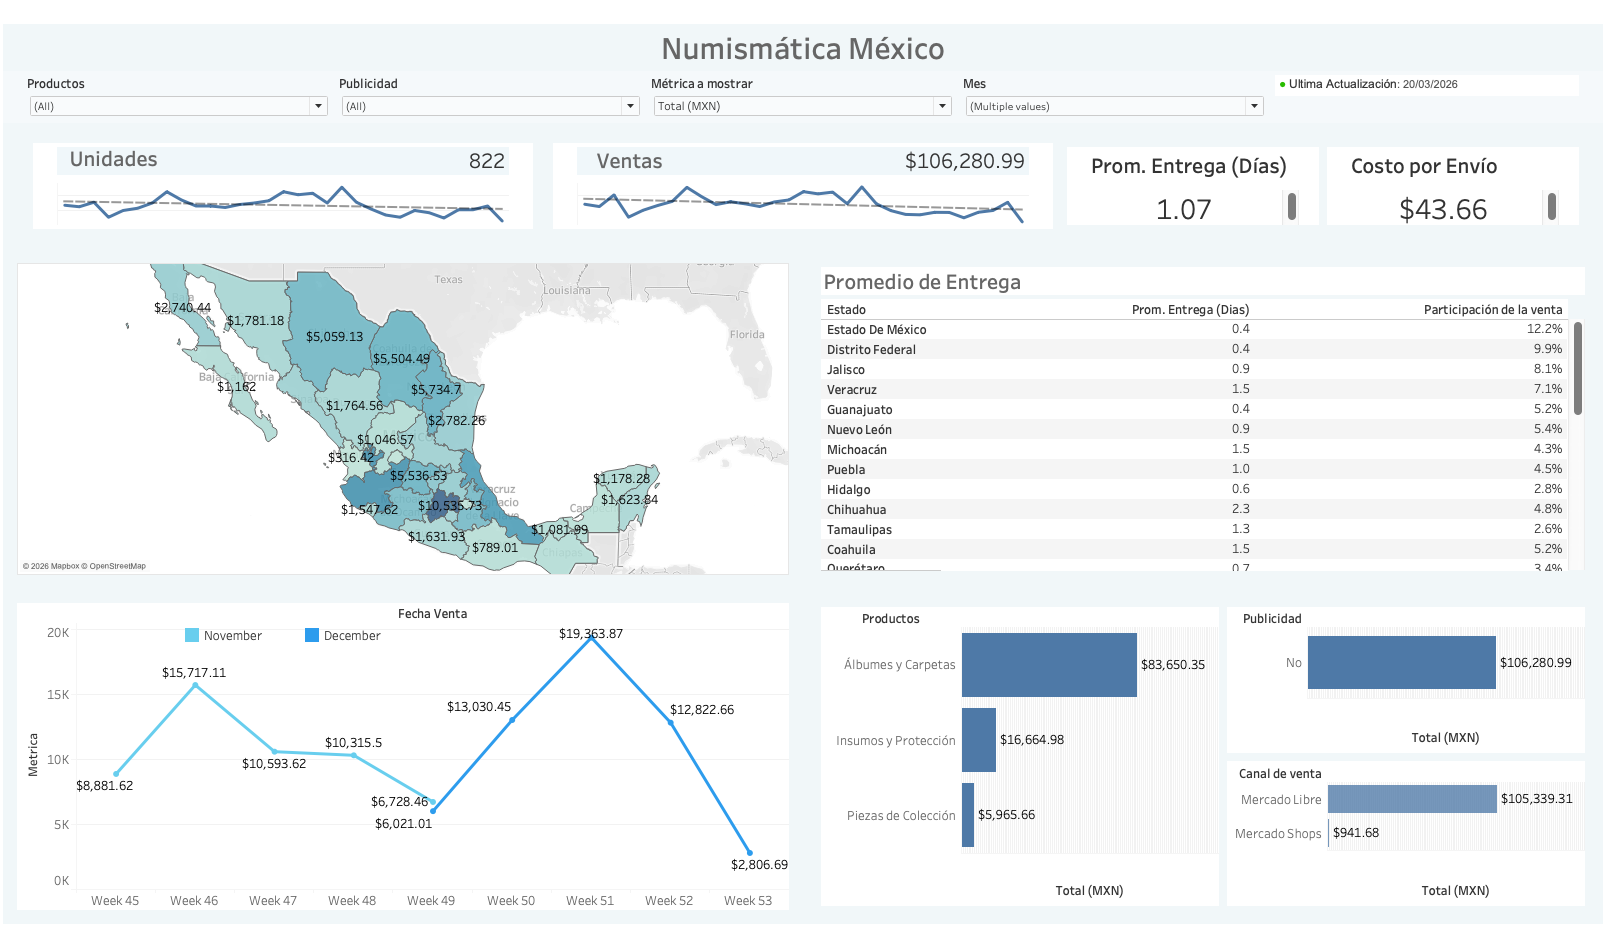

The page's visual inventory and layout, read from the dashboard file:
{"tool":"tableau","page":{"name":"Dashboard 2","canvas":[1600,900],"ordinal":0},"visuals":[{"type":"text","box":[0,0,1600,47]},{"type":"filter","title":"2.Visualización (3)","param":"[federated.0ptktg61vmrfxa1dduri50omddn7].[none:Título de la publicación:nk]","box":[20,47,312,52]},{"type":"filter","title":"1.Comparativa por mes","param":"[federated.0ptktg61vmrfxa1dduri50omddn7].[none:Venta por publicidad:nk]","box":[332,47,312,52]},{"type":"parameter","param":"[Parameters].[Parámetro 1 1]","box":[644,47,312,52]},{"type":"filter","title":"1.Comparativa por mes","param":"[federated.0ptktg61vmrfxa1dduri50omddn7].[mn:Fecha Venta:ok]","box":[956,47,312,52]},{"type":"worksheet","title":"LAst Update","mark":"Automatic","box":[1268,47,312,52]},{"type":"text","box":[64,102,108,64]},{"type":"text","box":[591,104,108,64]},{"type":"worksheet","title":"Unidades","mark":"Automatic","box":[50,119,460,36]},{"type":"worksheet","title":"Ventas","mark":"Automatic","box":[570,119,460,36]},{"type":"worksheet","title":"Avg. Dias Entrega","mark":"Automatic","box":[1060,119,260,86]},{"type":"worksheet","title":"Costo X Envio","mark":"Automatic","box":[1320,119,260,86]},{"type":"worksheet","title":"Unidades por mes","mark":"Automatic","rows":["Unidades"],"cols":["Fecha Venta"],"box":[50,155,460,50]},{"type":"worksheet","title":"Ventas por mes","mark":"Automatic","rows":["Total (MXN)"],"cols":["Fecha Venta"],"box":[570,155,460,50]},{"type":"worksheet","title":"6.Ent. por estado","mark":"Automatic","box":[0,225,800,340]},{"type":"text","box":[814,239,772,32]},{"type":"worksheet","title":"6.Dias/Costo x transp","mark":"Automatic","rows":["Estado"],"box":[814,271,772,280]},{"type":"worksheet","title":"1.Comparativa por mes","mark":"Automatic","rows":["Calculation_0001071783928113"],"cols":["Fecha Venta"],"box":[0,565,800,335]},{"type":"worksheet","title":"2.Visualización (3)","mark":"Automatic","rows":["Calculation_1135290359267329"],"cols":["Calculation_0001071783928113"],"box":[814,579,406,307]},{"type":"worksheet","title":"Ventas por Publicidad","mark":"Automatic","rows":["Venta por publicidad"],"cols":["Calculation_0001071783928113"],"box":[1220,579,366,154]},{"type":"legend","title":"1.Comparativa por mes","param":"[federated.0ptktg61vmrfxa1dduri50omddn7].[mn:Fecha Venta:ok]","box":[179,601,426,27]},{"type":"worksheet","title":"5.KPI - Canal principal (MXN)","mark":"Automatic","rows":["Canal de venta"],"cols":["Calculation_0001071783928113"],"box":[1220,733,366,153]}]}

Visuals, with their boxes in screenshot pixels (x1, y1, x2, y2), scaled from the page's 1600x900 canvas onto the 1613x929 screenshot:
text: crop(0, 0, 1612, 49)
"2.Visualización (3)" filter: crop(20, 49, 335, 102)
"1.Comparativa por mes" filter: crop(335, 49, 649, 102)
parameter: crop(649, 49, 964, 102)
"1.Comparativa por mes" filter: crop(964, 49, 1278, 102)
"LAst Update" worksheet: crop(1278, 49, 1593, 102)
text: crop(65, 105, 173, 171)
text: crop(596, 107, 705, 173)
"Unidades" worksheet: crop(50, 123, 514, 160)
"Ventas" worksheet: crop(575, 123, 1038, 160)
"Avg. Dias Entrega" worksheet: crop(1069, 123, 1331, 212)
"Costo X Envio" worksheet: crop(1331, 123, 1593, 212)
"Unidades por mes" worksheet: crop(50, 160, 514, 212)
"Ventas por mes" worksheet: crop(575, 160, 1038, 212)
"6.Ent. por estado" worksheet: crop(0, 232, 806, 583)
text: crop(821, 247, 1599, 280)
"6.Dias/Costo x transp" worksheet: crop(821, 280, 1599, 569)
"1.Comparativa por mes" worksheet: crop(0, 583, 806, 928)
"2.Visualización (3)" worksheet: crop(821, 598, 1230, 915)
"Ventas por Publicidad" worksheet: crop(1230, 598, 1599, 757)
"1.Comparativa por mes" legend: crop(180, 620, 610, 648)
"5.KPI - Canal principal (MXN)" worksheet: crop(1230, 757, 1599, 915)
